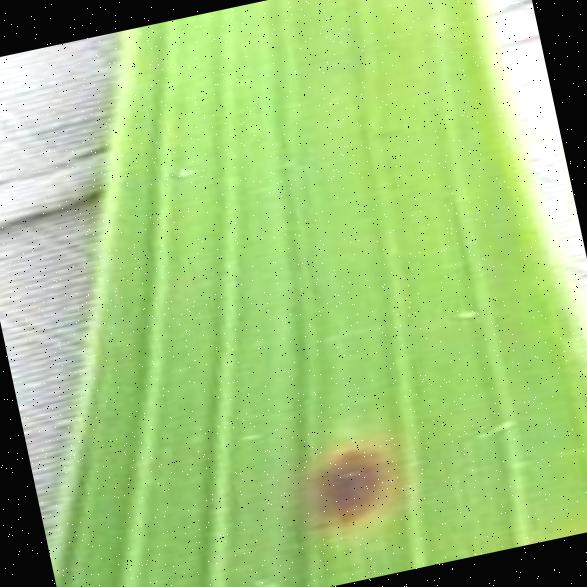Brown_Spot: (280, 413, 426, 568)
